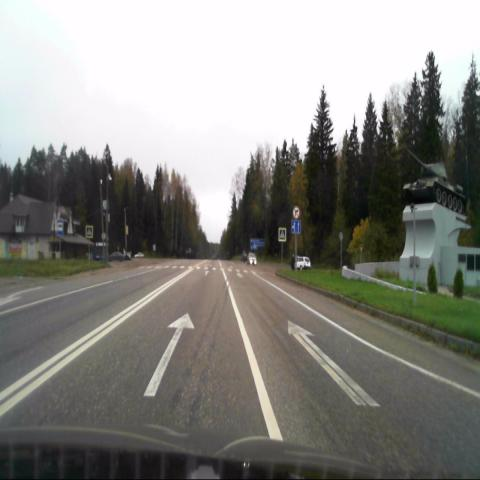3_18: (292, 205, 299, 218)
5_15_2_2: (291, 220, 301, 234)
5_19_1: (278, 228, 286, 241), (85, 225, 93, 238)
